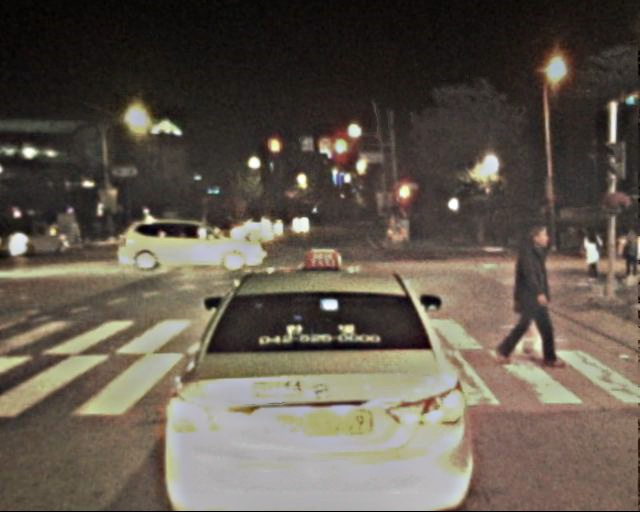person: (498, 222, 557, 366), (578, 226, 605, 293), (619, 227, 640, 283)
